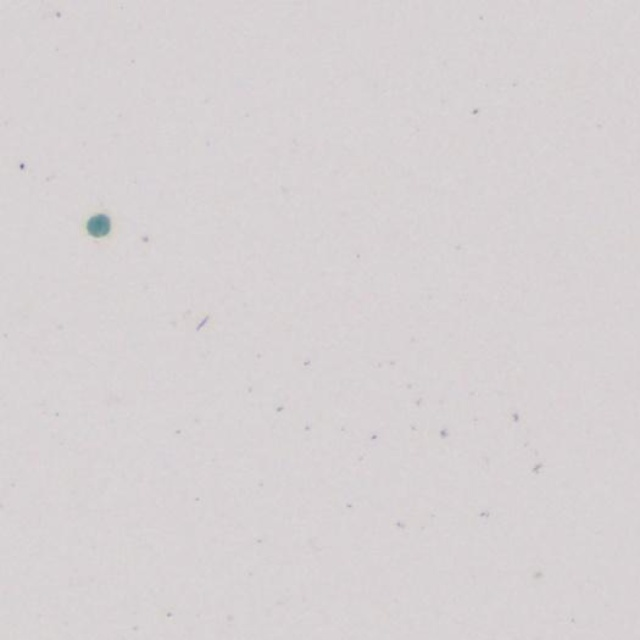non_viable: (87, 213, 110, 236)
